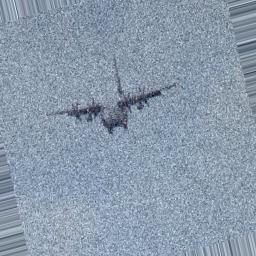Airplane: (45, 69, 175, 135)
